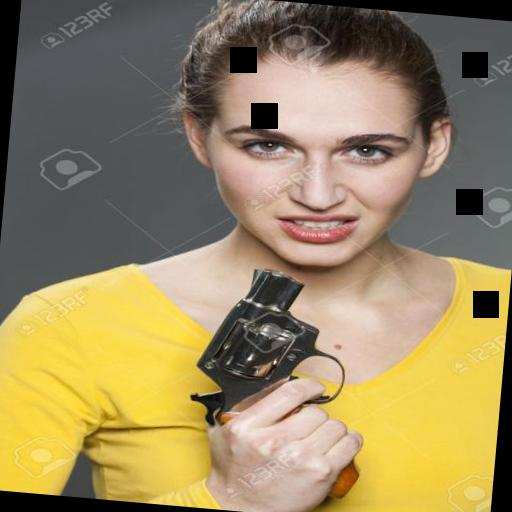Handgun: (189, 260, 351, 438)
